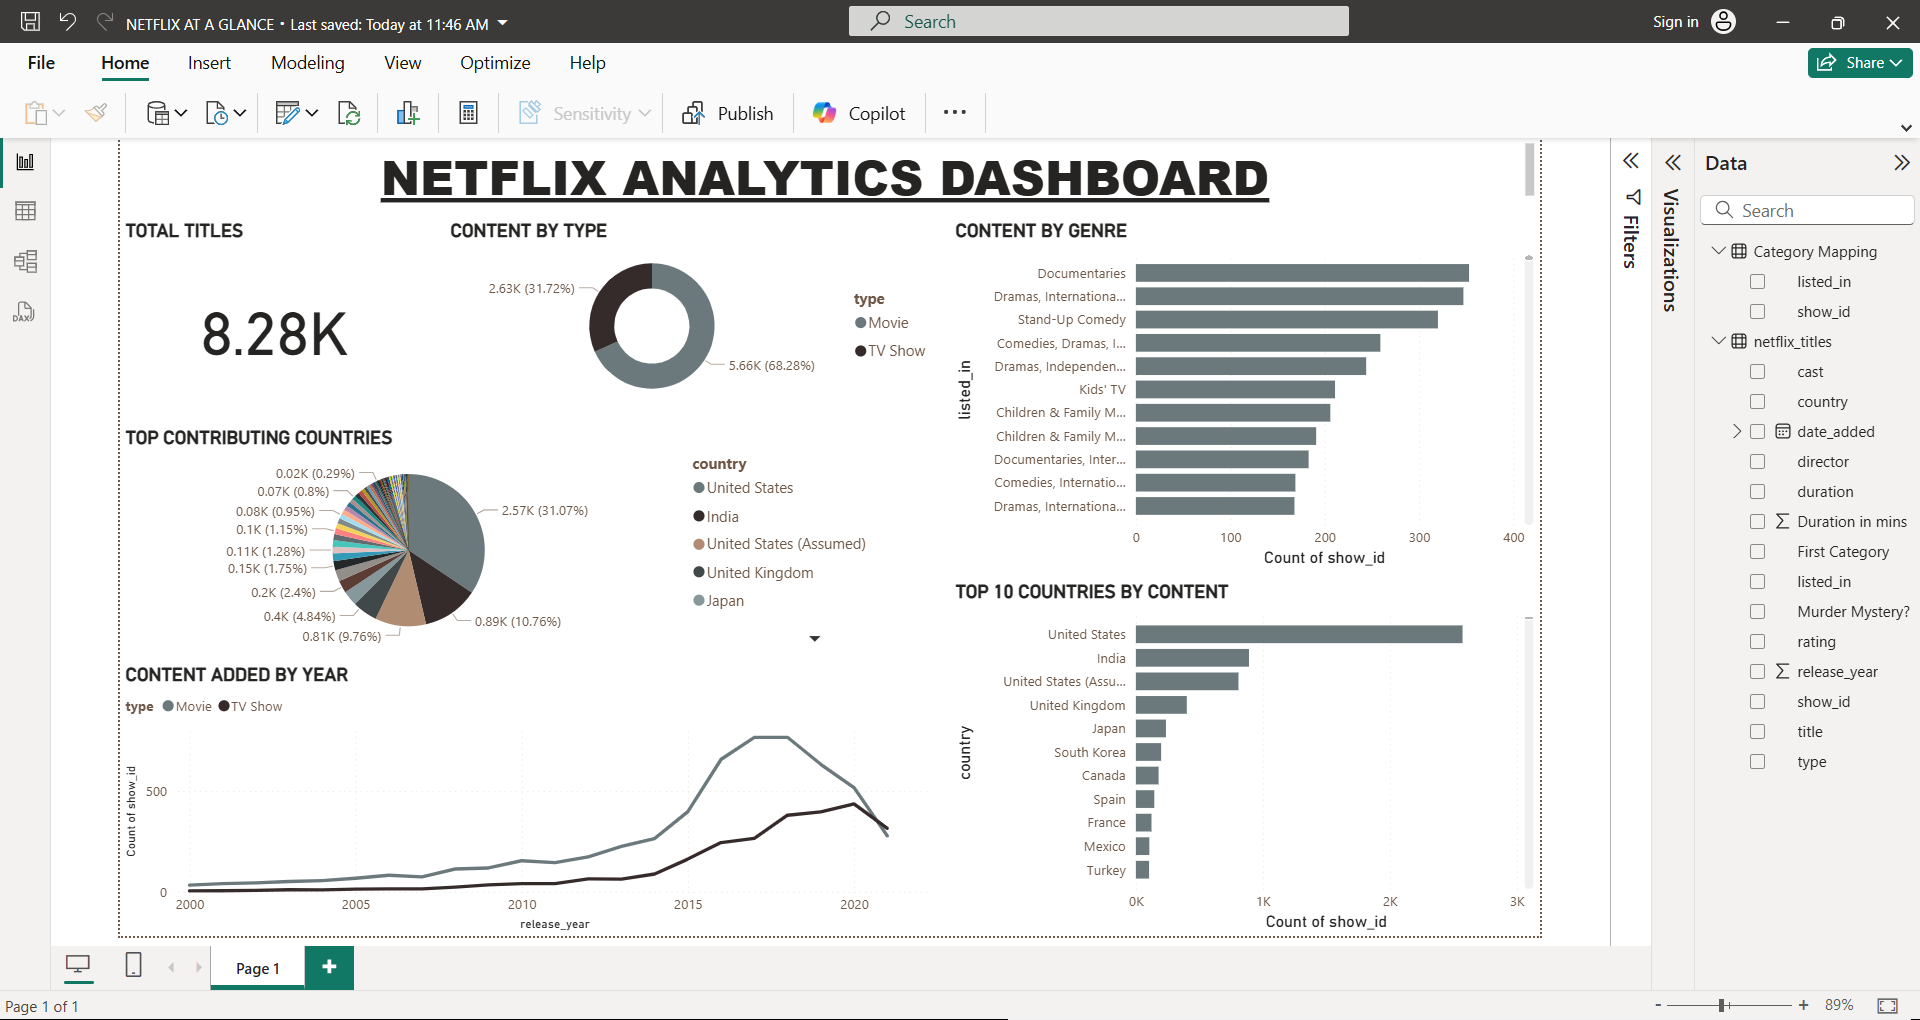

The dashboard page shown, as its layout file describes it:
{"tool":"powerbi","page":{"name":"Page 1","canvas":[1280,720],"ordinal":0},"visuals":[{"type":"donutChart","title":"CONTENT BY TYPE","fields":{"Category":["netflix_titles.type"],"Y":["CountNonNull(netflix_titles.show_id)"]},"box":[292.5,73.8,447.5,173.8],"z":0},{"type":"lineChart","title":"CONTENT ADDED BY YEAR","fields":{"Category":["netflix_titles.release_year"],"Y":["CountNonNull(netflix_titles.show_id)"],"Series":["netflix_titles.type"]},"box":[0,473.8,740,246.2],"z":1000},{"type":"barChart","title":"TOP 10 COUNTRIES BY CONTENT","fields":{"Y":["CountNonNull(netflix_titles.show_id)"],"Category":["netflix_titles.country"]},"box":[748.8,398.8,531.2,321.2],"z":2000},{"type":"card","title":"TOTAL TITLES","fields":{"Values":["CountNonNull(netflix_titles.title)"]},"box":[0,73.8,278.8,173.8],"z":3000},{"type":"textbox","box":[0,0,1280,63.8],"z":4000},{"type":"barChart","title":"CONTENT BY GENRE","fields":{"Category":["netflix_titles.listed_in"],"Y":["CountNonNull(netflix_titles.show_id)"]},"box":[748.8,73.8,531.2,318.8],"z":4001},{"type":"pieChart","title":"TOP CONTRIBUTING COUNTRIES","fields":{"Category":["netflix_titles.country"],"Y":["CountNonNull(netflix_titles.show_id)"]},"box":[0,260,740,203.8],"z":4002}]}

Visuals, with their boxes on the page's 1280x720 design canvas (x1, y1, x2, y2). These are canvas units, not pixel positions in the 1920x1020 screenshot, which may show the page scaled, cropped or inside an application window:
"CONTENT BY TYPE" donutChart: 292/74/740/248
"CONTENT ADDED BY YEAR" lineChart: 0/474/740/720
"TOP 10 COUNTRIES BY CONTENT" barChart: 749/399/1280/720
"TOTAL TITLES" card: 0/74/279/248
textbox: 0/0/1280/64
"CONTENT BY GENRE" barChart: 749/74/1280/393
"TOP CONTRIBUTING COUNTRIES" pieChart: 0/260/740/464
